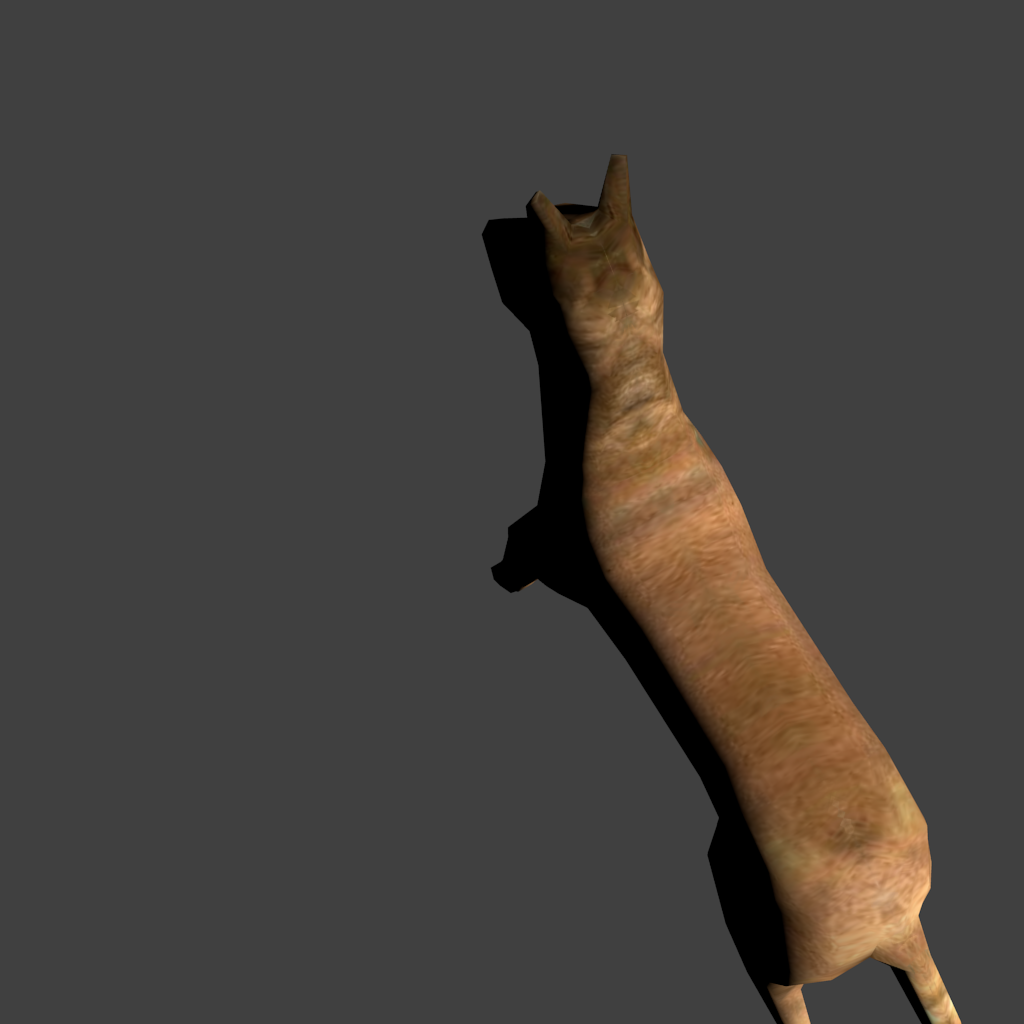Dog: (482, 154, 495, 870)
